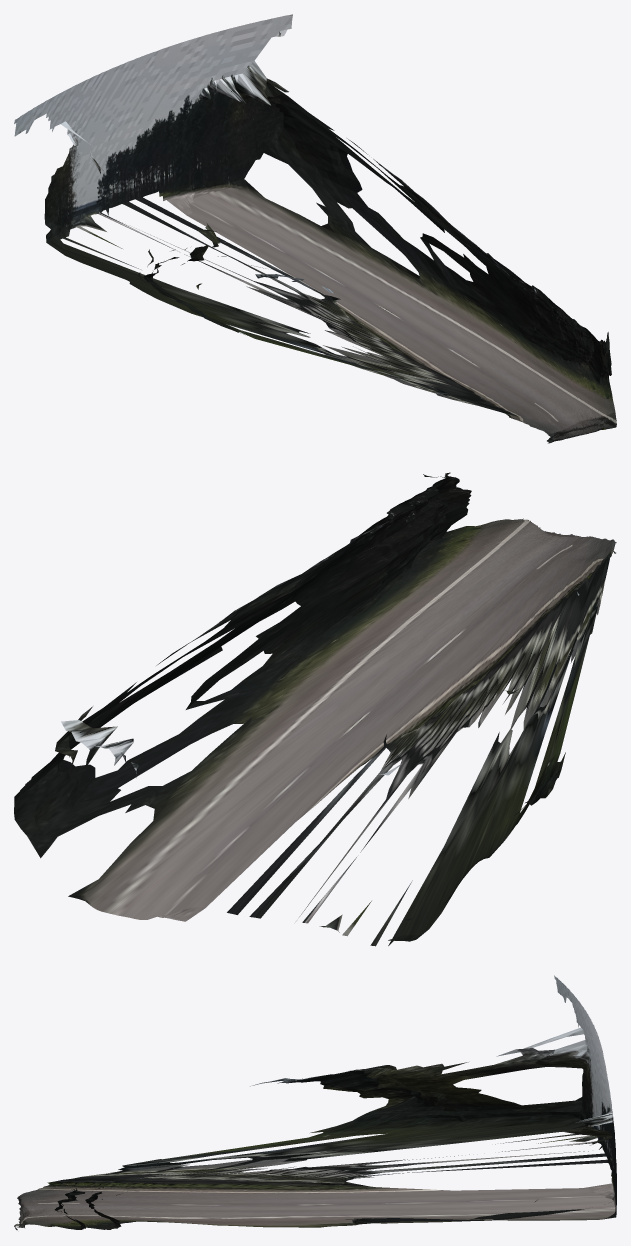
3 renders of one model, top to bottom at view 1: azimuth 30°, elevation 25°; view 2: azimuth 150°, elevation 25°; view 3: azimuth 270°, elevation 25°, orthographic. The views are drawn at different scales.
Parts seen in each view (by area): view 1: defaultobject; view 2: defaultobject; view 3: defaultobject.
Boxes of the visible parts, bbox=[...] form: defaultobject: bbox=[14, 14, 616, 443]; defaultobject: bbox=[14, 472, 616, 946]; defaultobject: bbox=[14, 975, 616, 1230].
Size of the model in its own units: 23.96 by 11.73 by 44.56.
1 material, 1 textured.
